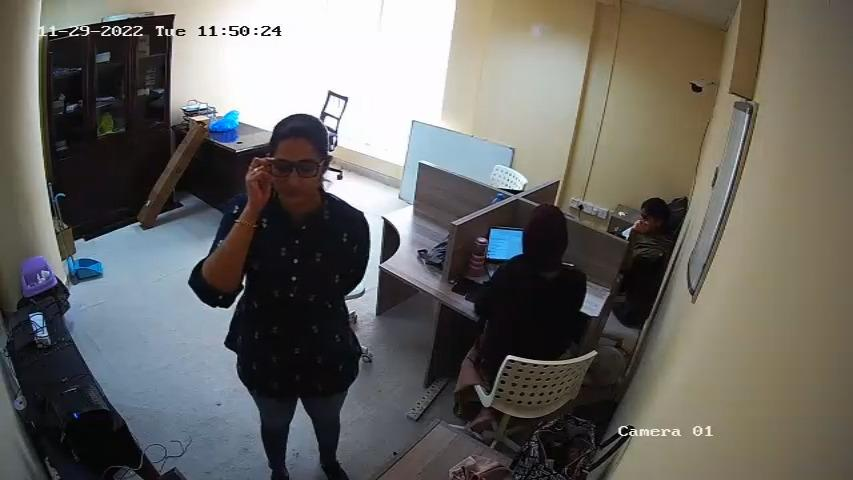no_apron: (257, 211, 350, 401)
